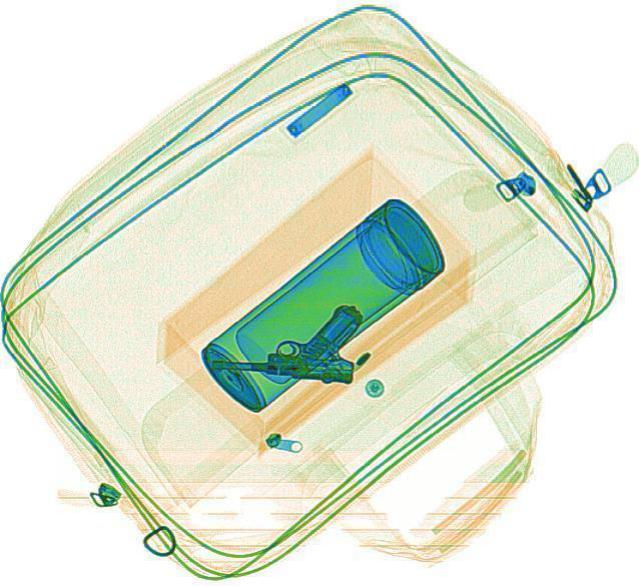Gun: (207, 294, 362, 382)
